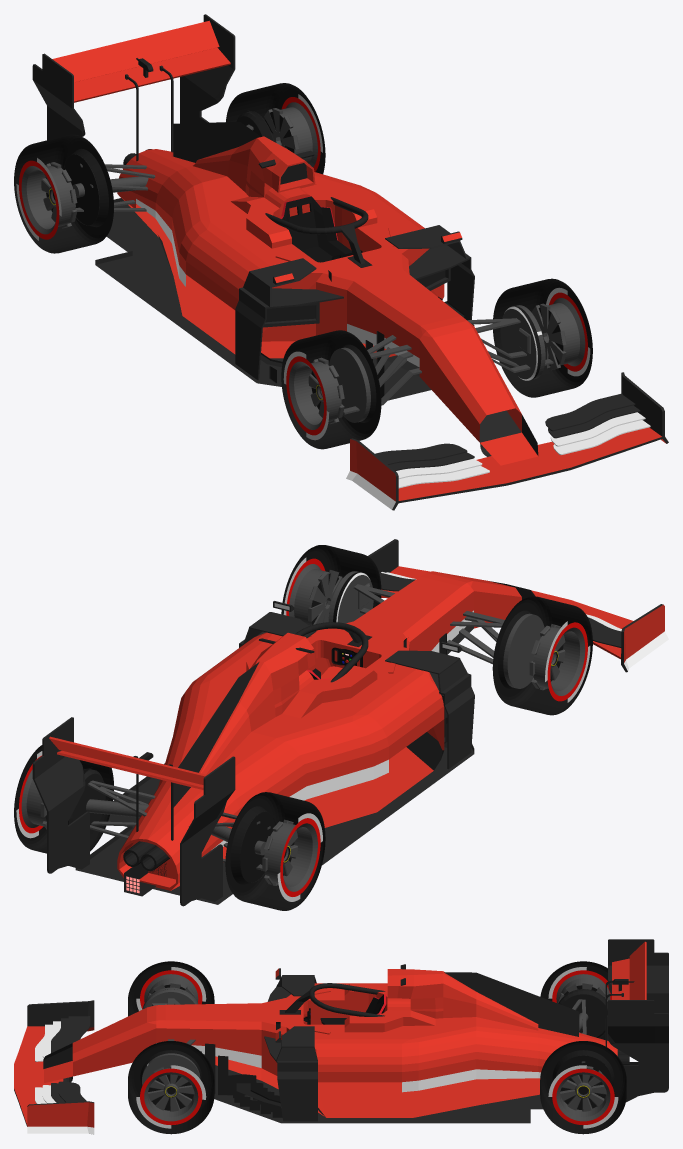
File: basic_lowpoly_f1_car_v1.glb
The picture shows the model from 3 angles, top to bottom: view 1: azimuth 30°, elevation 25°; view 2: azimuth 150°, elevation 25°; view 3: azimuth 270°, elevation 25°; orthographic projection. The views are drawn at different scales.
Parts seen in each view (by area): view 1: Main whole body_19, Front wing_7, Rear wing_13, Wheel Back Left.001_21, Side wings_18, Wheel Front Left.001_0, Wheel Front Left_3, Ground plate_8, Wheel Back Left_20, Front Axles_6, Seat_16, Front Axles hub right_4 (+3 smaller); view 2: Main whole body_19, Rear wing_13, Wheel Back Left.001_21, Wheel Front Left.001_0, Side wings_18, Front wing_7, Ground plate_8, Wheel Front Left_3, Wheel Back Left_20, Rear Axles_10, Front Axles hub left_1, Front Axles_6 (+4 smaller); view 3: Main whole body_19, Rear wing_13, Front wing_7, Wheel Back Left_20, Wheel Front Left_3, Side wings_18, Ground plate_8, Wheel Front Left.001_0, under side wings_17, Wheel Back Left.001_21, Circle_9, Seafty bars_14 (+3 smaller).
Part boxes in pixels (left/top/right/bottom): Main whole body_19: left=117, top=122, right=538, bottom=465; Front wing_7: left=346, top=372, right=668, bottom=510; Rear wing_13: left=32, top=14, right=235, bottom=161; Wheel Back Left.001_21: left=14, top=134, right=113, bottom=253; Side wings_18: left=235, top=225, right=474, bottom=380; Wheel Front Left.001_0: left=281, top=330, right=381, bottom=449; Wheel Front Left_3: left=493, top=278, right=592, bottom=397; Ground plate_8: left=95, top=198, right=474, bottom=400; Wheel Back Left_20: left=226, top=83, right=325, bottom=174; Front Axles_6: left=343, top=318, right=553, bottom=414; Seat_16: left=280, top=196, right=351, bottom=262; Front Axles hub right_4: left=500, top=305, right=545, bottom=380; Main whole body_19: left=117, top=571, right=535, bottom=890; Rear wing_13: left=32, top=717, right=235, bottom=906; Wheel Back Left.001_21: left=225, top=792, right=325, bottom=910; Wheel Front Left.001_0: left=492, top=596, right=592, bottom=715; Side wings_18: left=239, top=601, right=474, bottom=769; Front wing_7: left=368, top=539, right=668, bottom=672; Ground plate_8: left=75, top=738, right=474, bottom=904; Wheel Front Left_3: left=281, top=545, right=381, bottom=625; Wheel Back Left_20: left=14, top=745, right=113, bottom=853; Rear Axles_10: left=86, top=780, right=270, bottom=870; Front Axles hub left_1: left=503, top=613, right=544, bottom=688; Front Axles_6: left=353, top=584, right=504, bottom=664; Main whole body_19: left=43, top=964, right=617, bottom=1117; Rear wing_13: left=605, top=939, right=668, bottom=1102; Front wing_7: left=14, top=1000, right=94, bottom=1134; Wheel Back Left_20: left=540, top=1041, right=626, bottom=1134; Wheel Front Left_3: left=128, top=1041, right=214, bottom=1134; Side wings_18: left=264, top=968, right=317, bottom=1121; Ground plate_8: left=214, top=1065, right=542, bottom=1123; Wheel Front Left.001_0: left=128, top=961, right=214, bottom=1016; under side wings_17: left=205, top=1043, right=282, bottom=1117; Wheel Back Left.001_21: left=540, top=961, right=611, bottom=1039; Circle_9: left=558, top=989, right=608, bottom=1069; Seafty bars_14: left=279, top=983, right=385, bottom=1016.
Bounding box in the file's own units: 1.22 × 0.6282 × 3.18.
